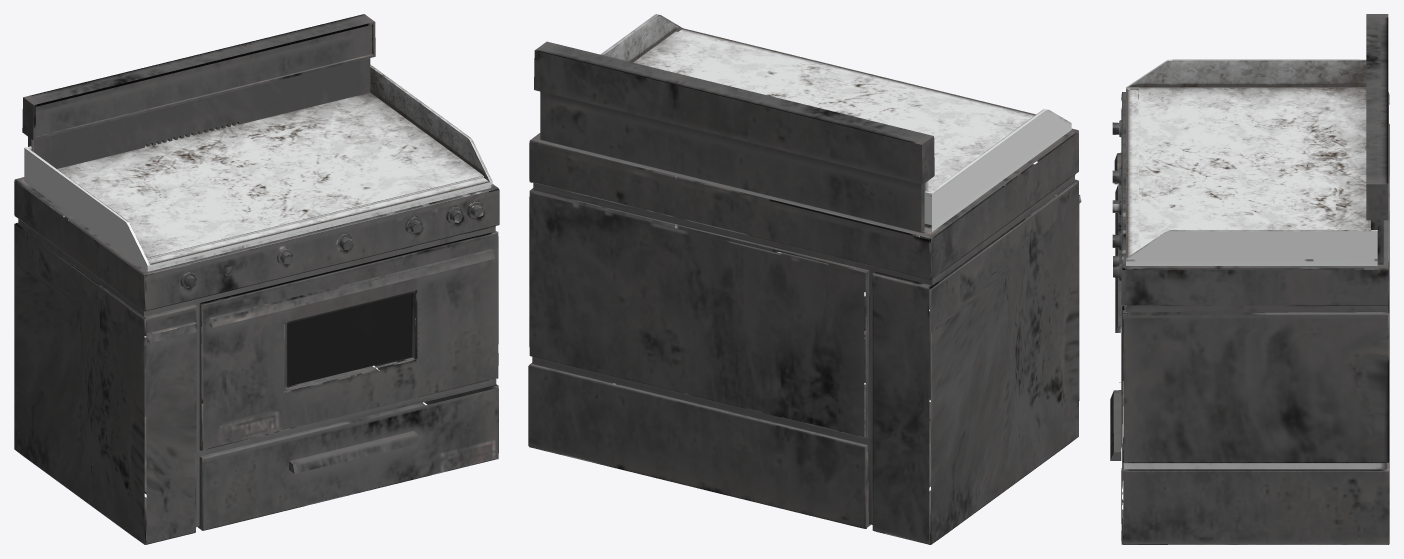
Rendered from kt_flat_top_grill.fbx.
3 views of the same model, side by side, from view 1: azimuth 30°, elevation 25°; view 2: azimuth 150°, elevation 25°; view 3: azimuth 270°, elevation 25° (orthographic). The views are drawn at different scales.
Visible parts, largest first — view 1: kt_flat_top_grill_LOD0; view 2: kt_flat_top_grill_LOD0; view 3: kt_flat_top_grill_LOD0.
Boxes of the visible parts, <box> form: kt_flat_top_grill_LOD0: <box>14,14,499,544</box>; kt_flat_top_grill_LOD0: <box>528,14,1081,544</box>; kt_flat_top_grill_LOD0: <box>1110,14,1389,544</box>.
Size of what is drawn, in the model's own units: 1.11 by 1.05 by 0.7401.
1 material, 1 textured.
